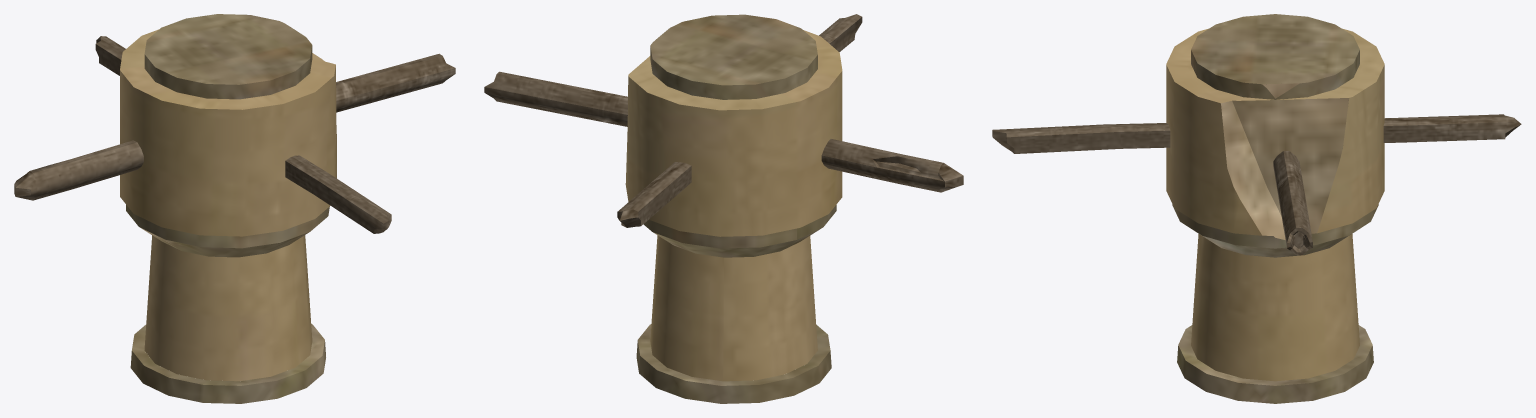
The model's file is cargo_ancient_control.glb.
3 views of the same model, side by side, from view 1: azimuth 30°, elevation 25°; view 2: azimuth 150°, elevation 25°; view 3: azimuth 270°, elevation 25° (orthographic).
Visible parts, largest first — view 1: KB3D_ANT_Part_A_Main; view 2: KB3D_ANT_Part_A_Main; view 3: KB3D_ANT_Part_A_Main.
Boxes of the visible parts, x1,y1,x2,y2 form: KB3D_ANT_Part_A_Main: [14, 14, 455, 403]; KB3D_ANT_Part_A_Main: [484, 14, 963, 403]; KB3D_ANT_Part_A_Main: [992, 14, 1521, 403].
Size of the model in its own units: 3.17 by 2.09 by 3.2.
Materials: 4 (4 with a texture image).
